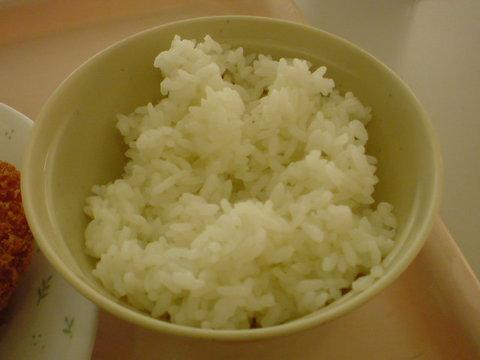rice: (84, 36, 397, 329)
